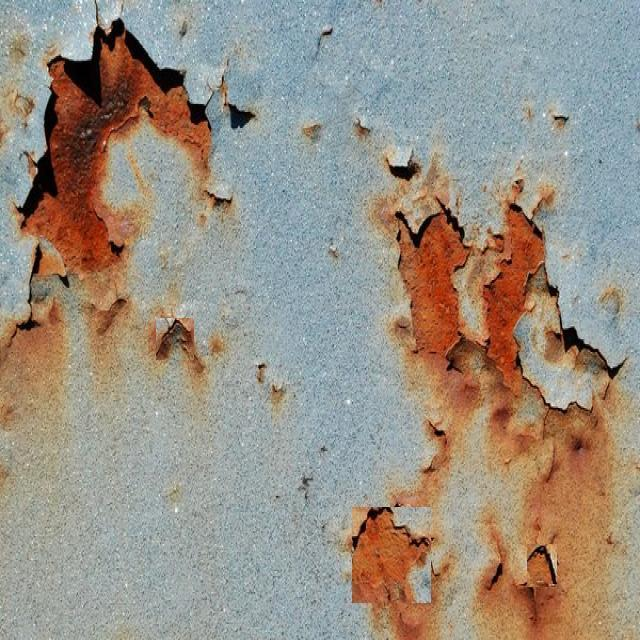Corrosion: (353, 306, 610, 640), (21, 19, 210, 272), (0, 208, 129, 382), (484, 204, 546, 390), (399, 211, 470, 354), (353, 509, 430, 606)
